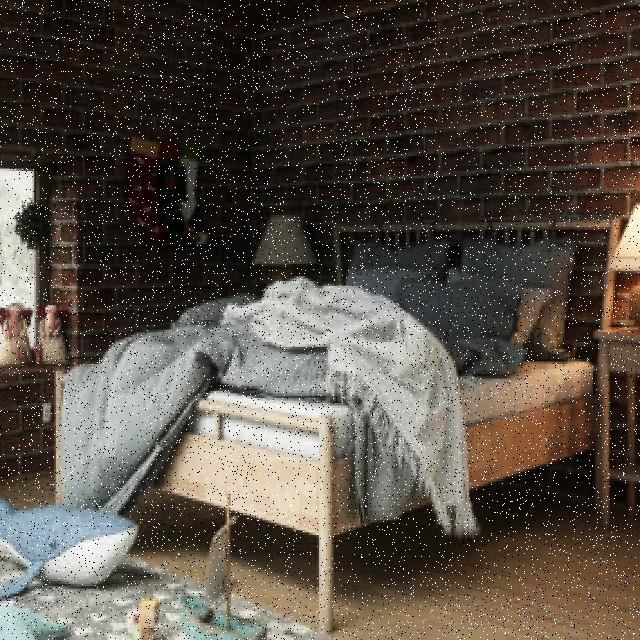bed: (58, 218, 595, 531)
